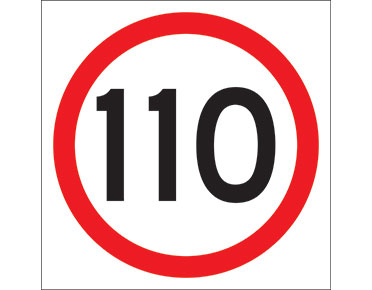Speed_limit_110km: (52, 12, 319, 278)
